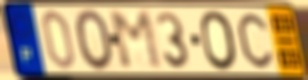0: (40, 8, 77, 72)
3: (155, 11, 191, 70)
C: (235, 11, 275, 70)
M: (106, 9, 166, 72)
O: (74, 8, 116, 73), (198, 9, 240, 73)
